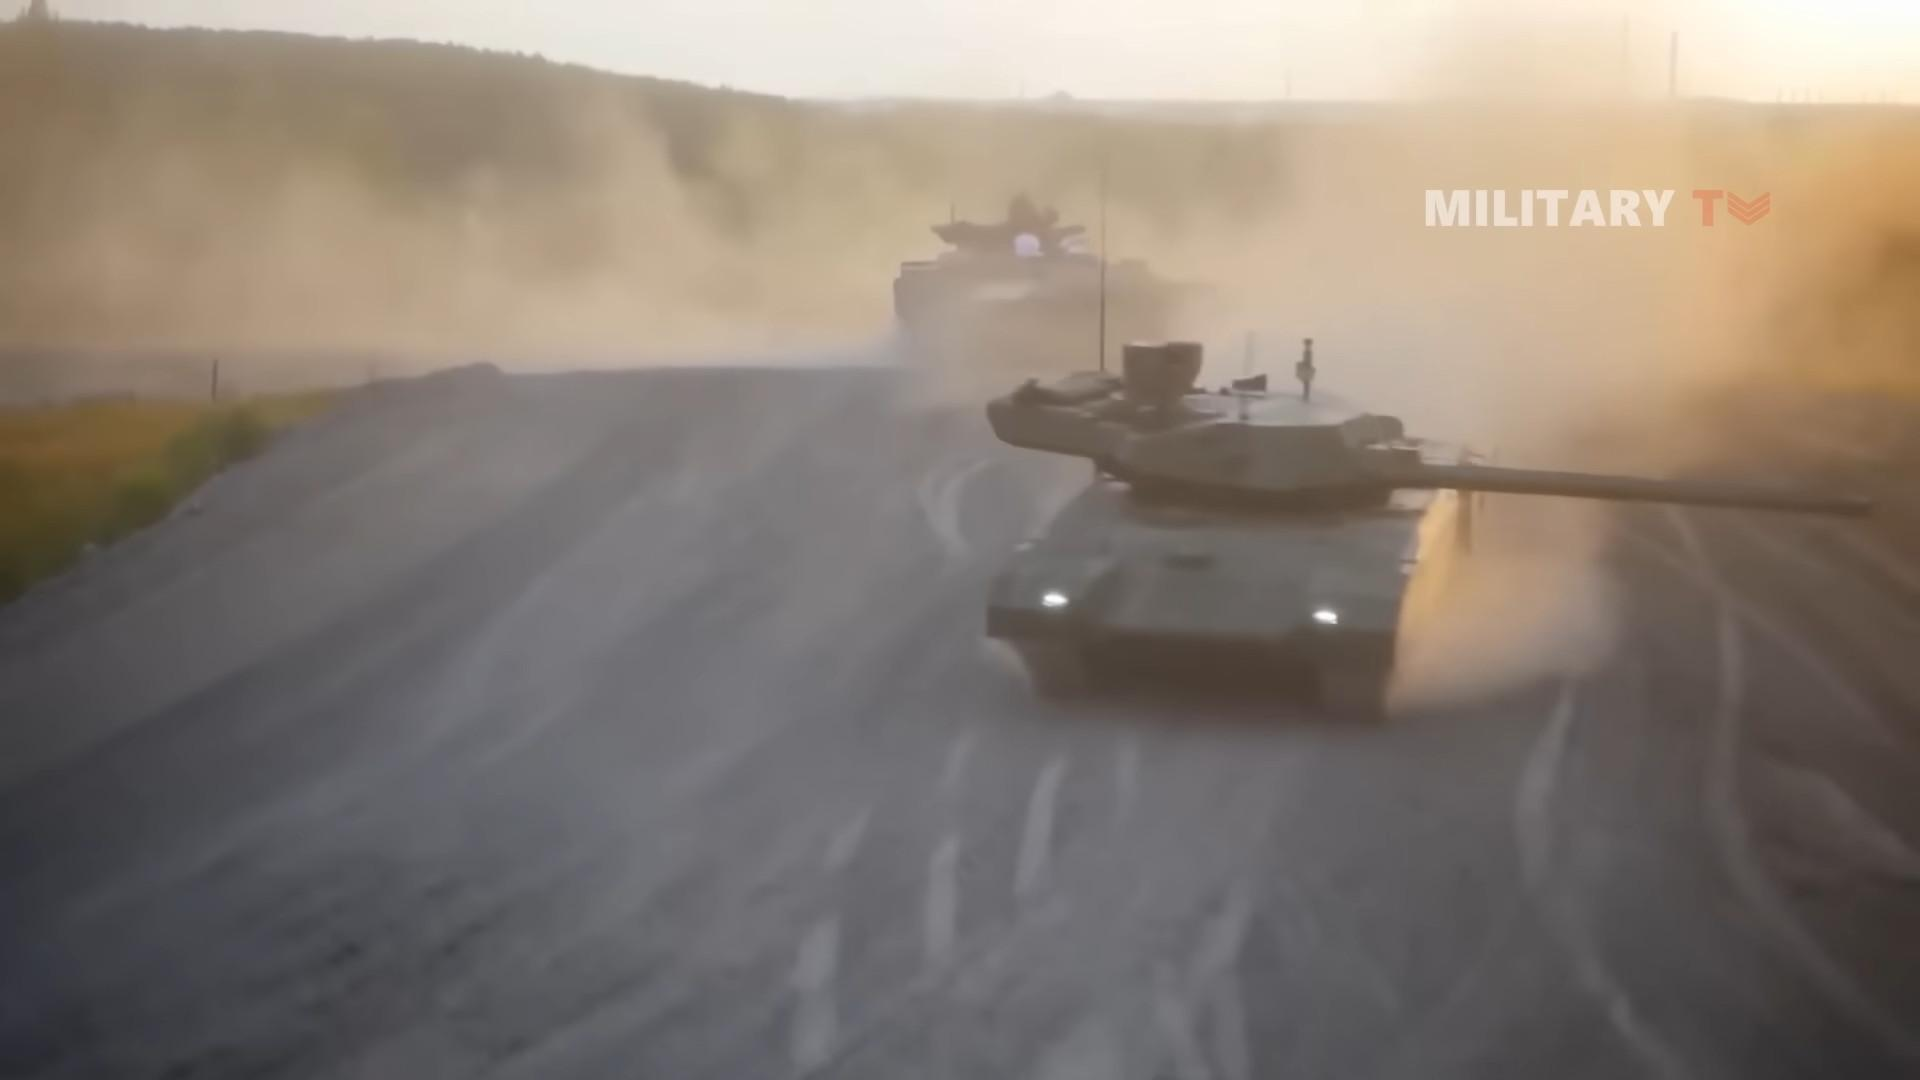tank: (986, 342, 1878, 716)
